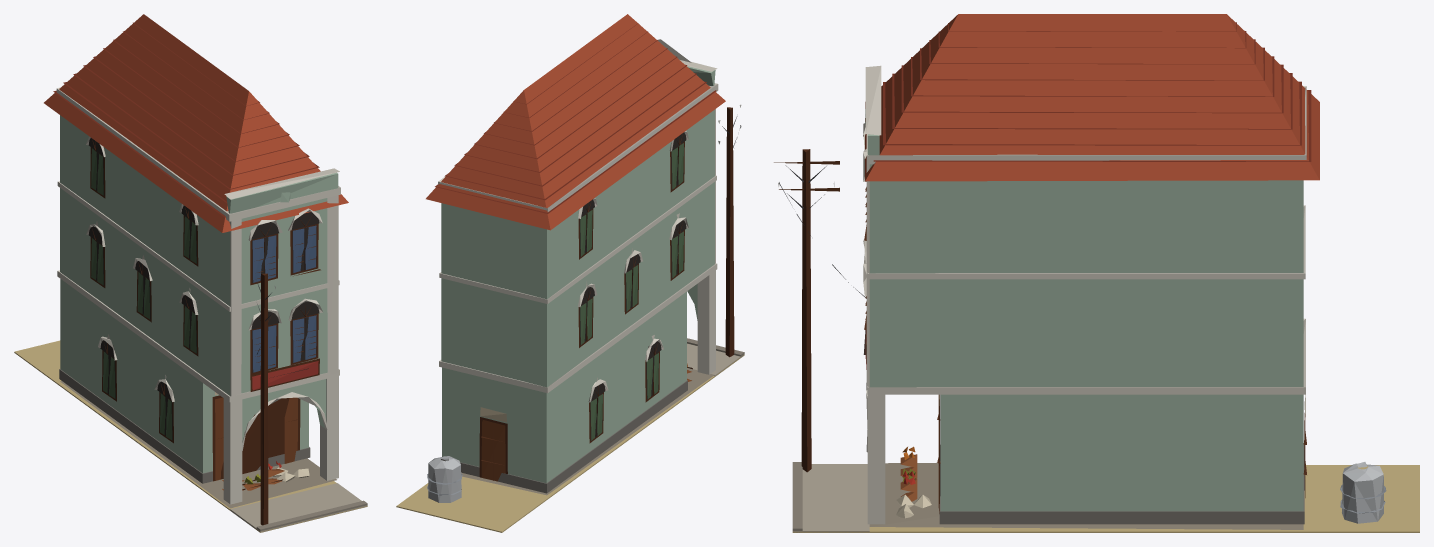
File: bay2_left.glb
3 renders of one model, left to right at view 1: azimuth 30°, elevation 25°; view 2: azimuth 150°, elevation 25°; view 3: azimuth 270°, elevation 25°, orthographic. The views are drawn at different scales.
Visible parts, largest first — view 1: body, windows; view 2: body, windows; view 3: body.
Part boxes in pixels (x1,y1,x2,y2): body: [14, 14, 367, 532]; windows: [88, 138, 319, 440]; body: [396, 14, 744, 532]; windows: [579, 132, 686, 440]; body: [774, 14, 1419, 532].
Size of the model in its own units: 4.75 by 13.59 by 16.4.
